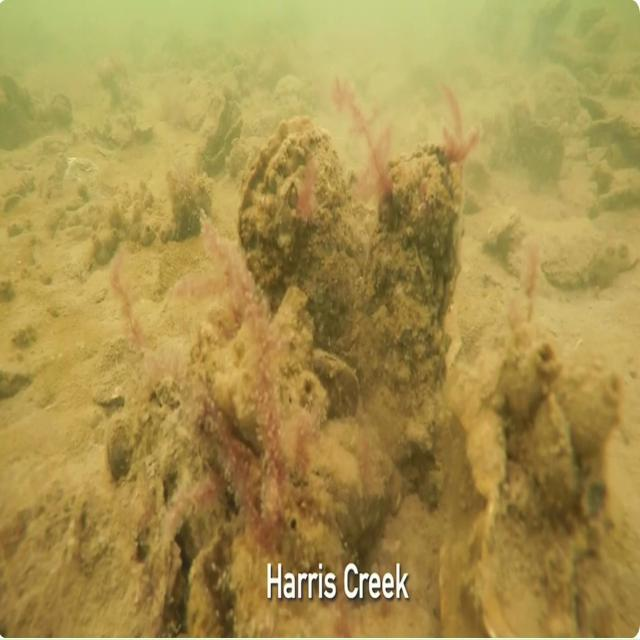Oyster- Indeterminate: (368, 146, 461, 324), (475, 498, 588, 636), (362, 284, 449, 395), (439, 510, 489, 637), (305, 439, 366, 539), (529, 392, 578, 510), (188, 531, 235, 637), (285, 516, 348, 590), (540, 218, 604, 289), (509, 104, 564, 182), (466, 408, 506, 499), (161, 172, 212, 243), (155, 406, 191, 503), (312, 348, 359, 417), (449, 355, 490, 432), (511, 0, 565, 58), (589, 161, 640, 218), (589, 117, 640, 165), (392, 417, 431, 478), (106, 415, 134, 481), (0, 93, 32, 149), (586, 18, 620, 52), (608, 64, 640, 97), (0, 76, 31, 110), (151, 375, 180, 409), (575, 7, 606, 36), (109, 117, 134, 147), (580, 97, 606, 121), (132, 121, 154, 142)
Oyster-Open: (239, 117, 355, 297), (196, 90, 242, 174), (44, 95, 72, 127)
